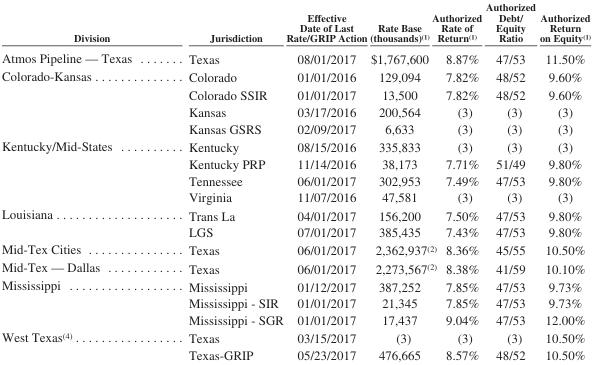table: (0, 0, 590, 361)
table column: (0, 0, 159, 361), (159, 0, 284, 361), (284, 0, 367, 361), (367, 0, 433, 361), (536, 0, 590, 361), (483, 0, 536, 361), (433, 0, 483, 361)
table column header: (0, 0, 590, 46)
table row: (0, 0, 590, 46), (0, 46, 590, 67), (0, 67, 590, 85), (0, 85, 590, 103), (0, 137, 590, 155), (0, 205, 590, 223), (0, 240, 590, 258), (0, 258, 590, 276), (0, 276, 590, 294), (0, 328, 590, 346), (0, 103, 590, 120), (0, 120, 590, 137), (0, 171, 590, 188), (0, 188, 590, 205), (0, 223, 590, 240), (0, 294, 590, 311), (0, 311, 590, 328), (0, 155, 590, 171), (0, 346, 590, 361)
table spanning cell: (0, 67, 159, 137), (0, 137, 159, 205), (0, 276, 159, 328), (0, 205, 159, 240), (0, 328, 159, 361)
